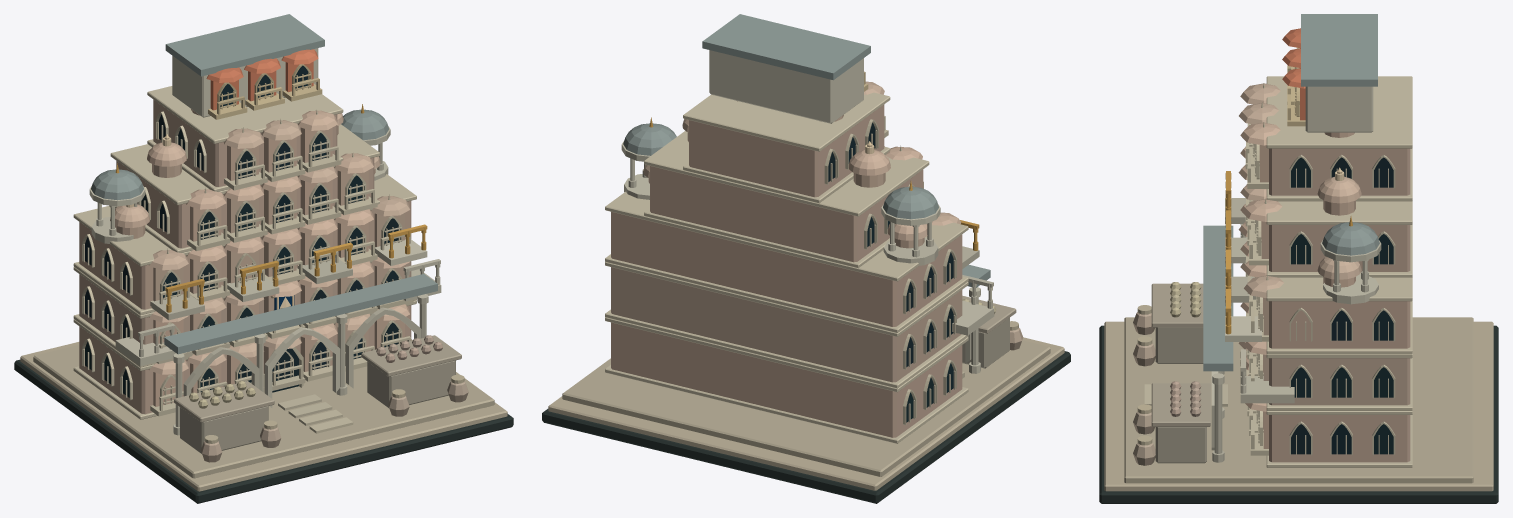
3 views of the same model, side by side, from view 1: azimuth 30°, elevation 25°; view 2: azimuth 150°, elevation 25°; view 3: azimuth 270°, elevation 25° (orthographic). The views are drawn at different scales.
Visible parts, largest first — view 1: market_L6_0, market_L6_1; view 2: market_L6_0; view 3: market_L6_0, market_L6_1.
Part boxes in pixels (box(x1,y1,x2,y2)): market_L6_0: box(14, 14, 513, 503); market_L6_1: box(115, 104, 427, 312); market_L6_0: box(542, 14, 1070, 503); market_L6_0: box(1099, 14, 1498, 503); market_L6_1: box(1225, 167, 1352, 334).
Bounding box in the file's own units: 5.6 × 5.79 × 5.6.
